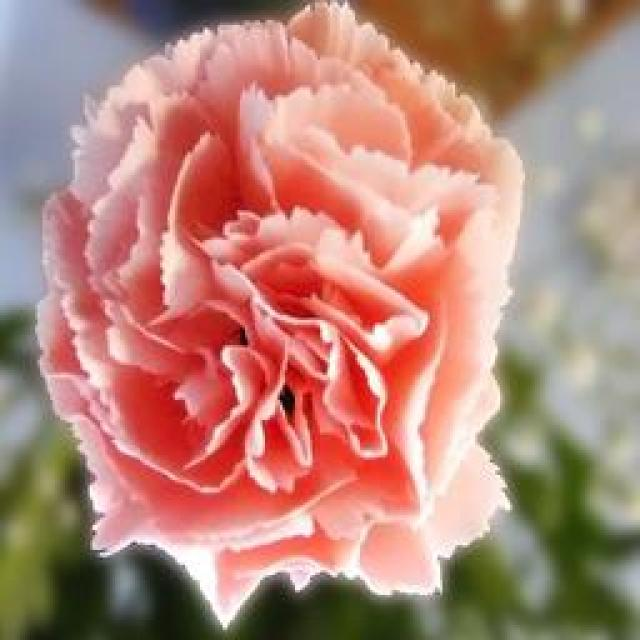carnation: (38, 11, 552, 621)
